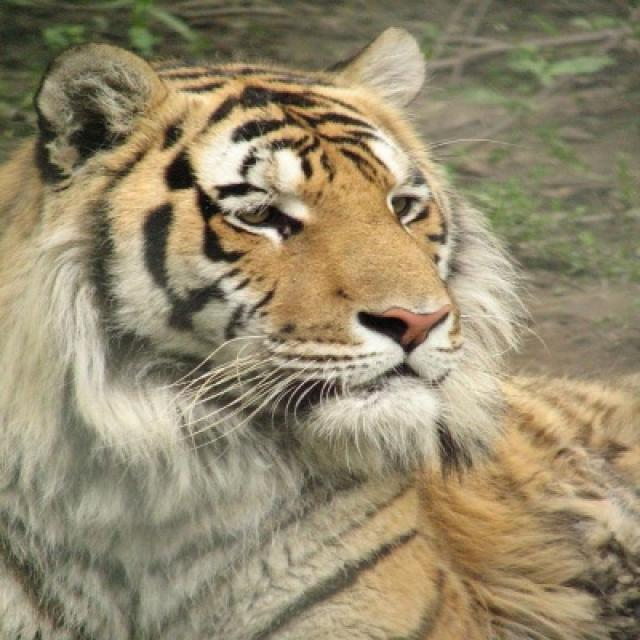Tiger: (10, 25, 634, 633)
